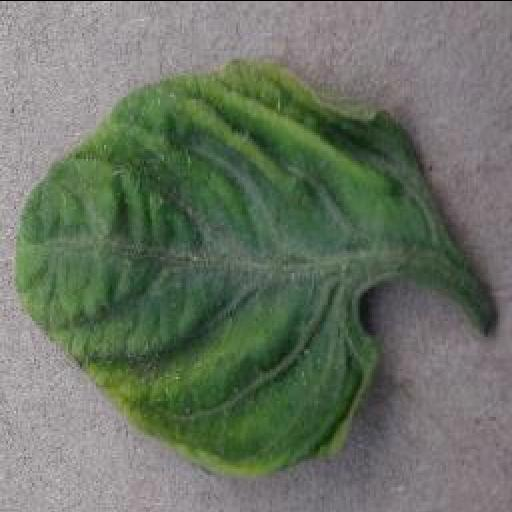disease_tomato: (6, 49, 448, 481)
